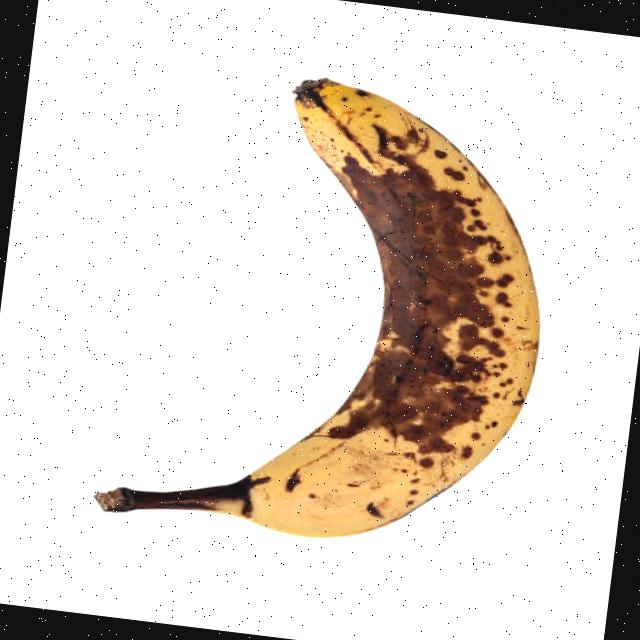overripe: (100, 52, 577, 568)
